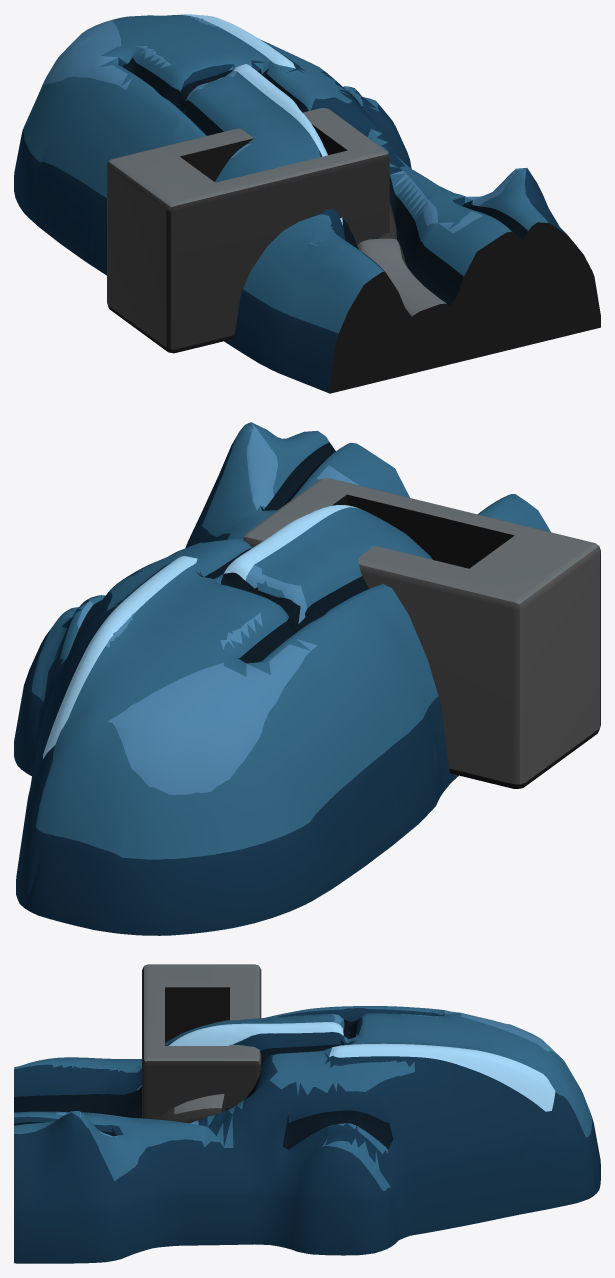
The model's file is blue_gate_tl.glb.
3 renders of one model, top to bottom at view 1: azimuth 30°, elevation 25°; view 2: azimuth 150°, elevation 25°; view 3: azimuth 270°, elevation 25°, orthographic. The views are drawn at different scales.
Visible parts, largest first — view 1: blue_gate_tl; view 2: blue_gate_tl; view 3: blue_gate_tl.
Boxes of the visible parts, <box> form: blue_gate_tl: <box>14,14,600,393</box>; blue_gate_tl: <box>14,422,600,935</box>; blue_gate_tl: <box>14,964,600,1263</box>.
Bounding box in the file's own units: 18 × 8.49 × 27.99.
